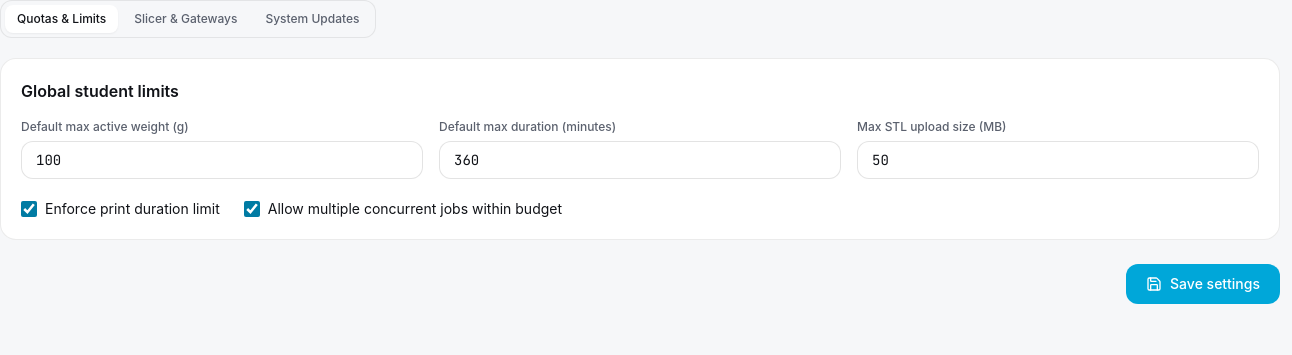
Scenario: AdminSettingsTab › refuses to render unsafe or non-GitHub release_url links
The image size is (1292, 355).
Click the tab "System Updates" at [312, 19], box left=254, top=5, right=372, bottom=33
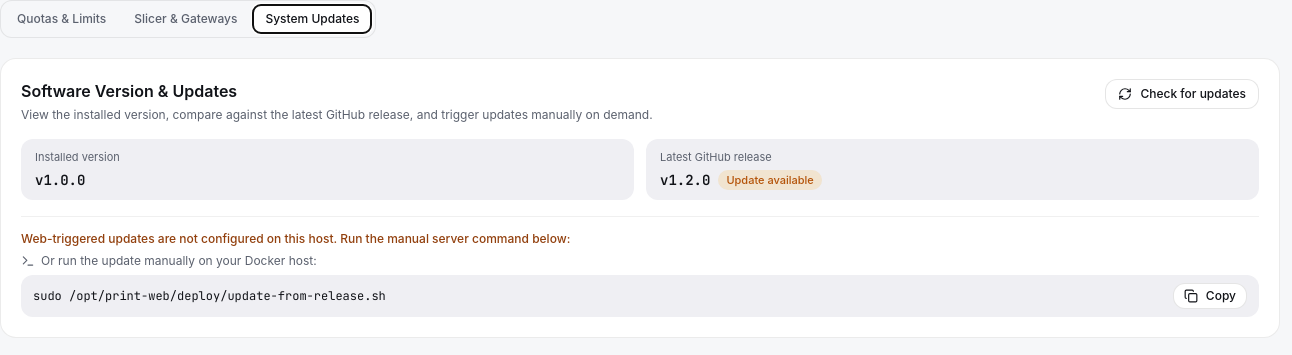
Result: the text "Update available" is shown at left=718, top=170, right=822, bottom=190
